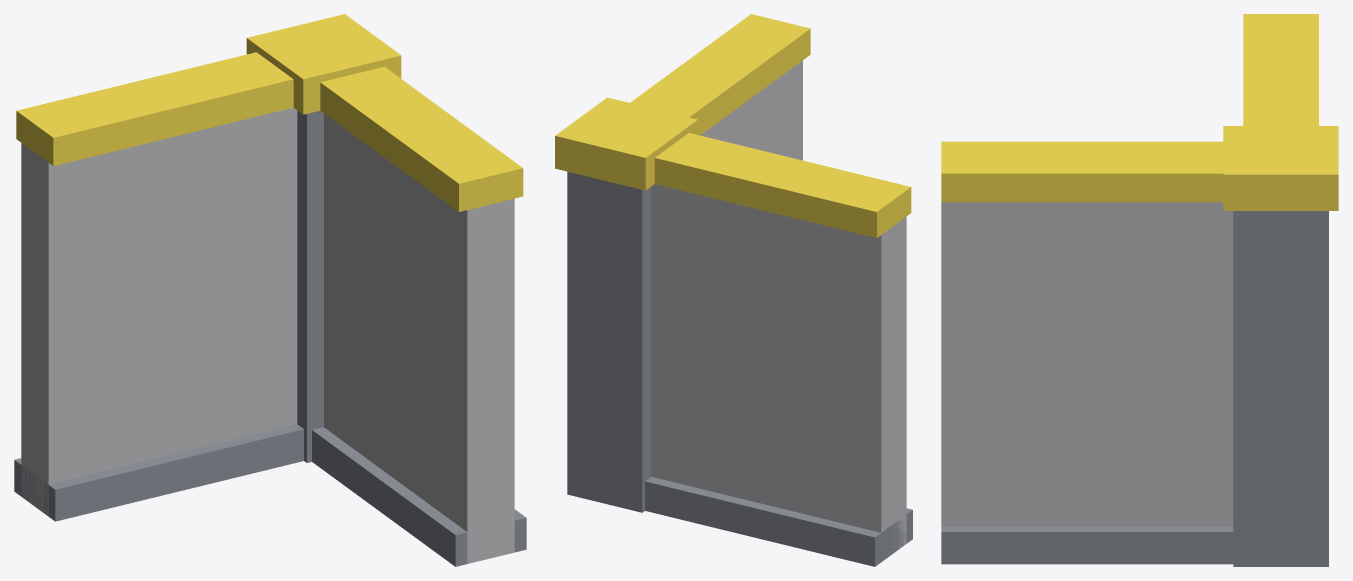
Rendered from corner.glb.
3 renders of one model, left to right at view 1: azimuth 30°, elevation 25°; view 2: azimuth 150°, elevation 25°; view 3: azimuth 270°, elevation 25°, orthographic. The views are drawn at different scales.
Visible parts, largest first — view 1: corner; view 2: corner; view 3: corner.
Boxes of the visible parts, x1=… form: corner: x1=14, y1=14, x2=526, y2=566; corner: x1=555, y1=14, x2=912, y2=566; corner: x1=941, y1=14, x2=1338, y2=566.
Bounding box in the file's own units: 1 × 1.1 × 1.
